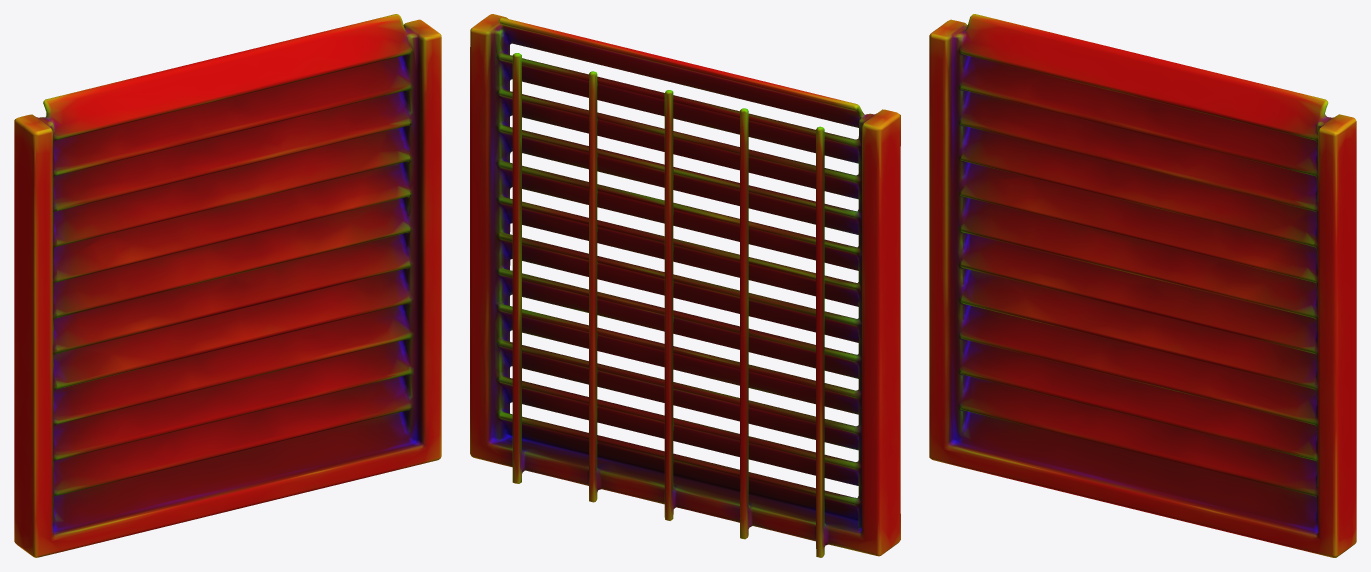
Rendered from RoofVent.fbx.
3 views of the same model, side by side, from view 1: azimuth 30°, elevation 25°; view 2: azimuth 150°, elevation 25°; view 3: azimuth 330°, elevation 25° (orthographic).
Visible parts, largest first — view 1: transform1; view 2: transform1; view 3: transform1.
Boxes of the visible parts, left/top/right/bottom form: transform1: left=14, top=14, right=441, bottom=557; transform1: left=470, top=14, right=900, bottom=557; transform1: left=929, top=14, right=1356, bottom=557.
Size of the model in its own units: 251 by 27.07 by 265.
